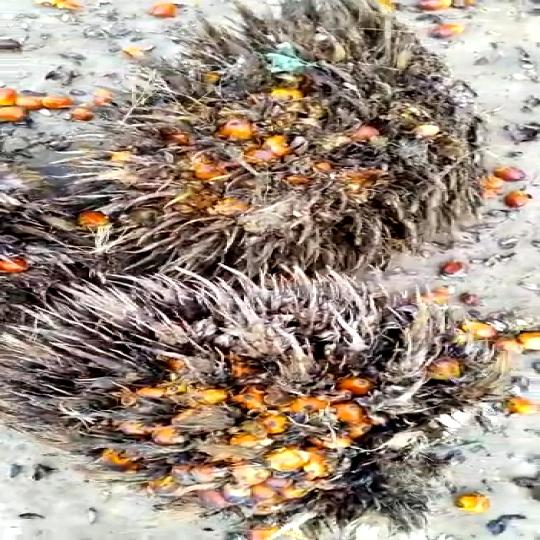terlalu masak: (0, 260, 495, 522), (89, 3, 502, 273)
